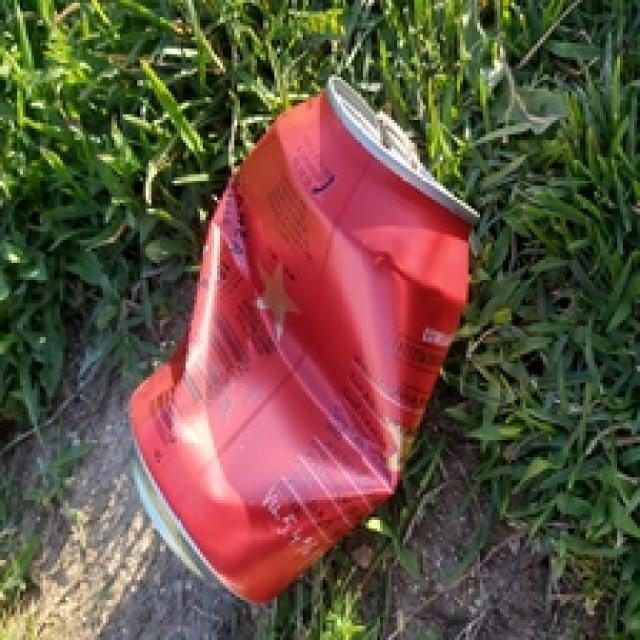can: (126, 73, 482, 610)
